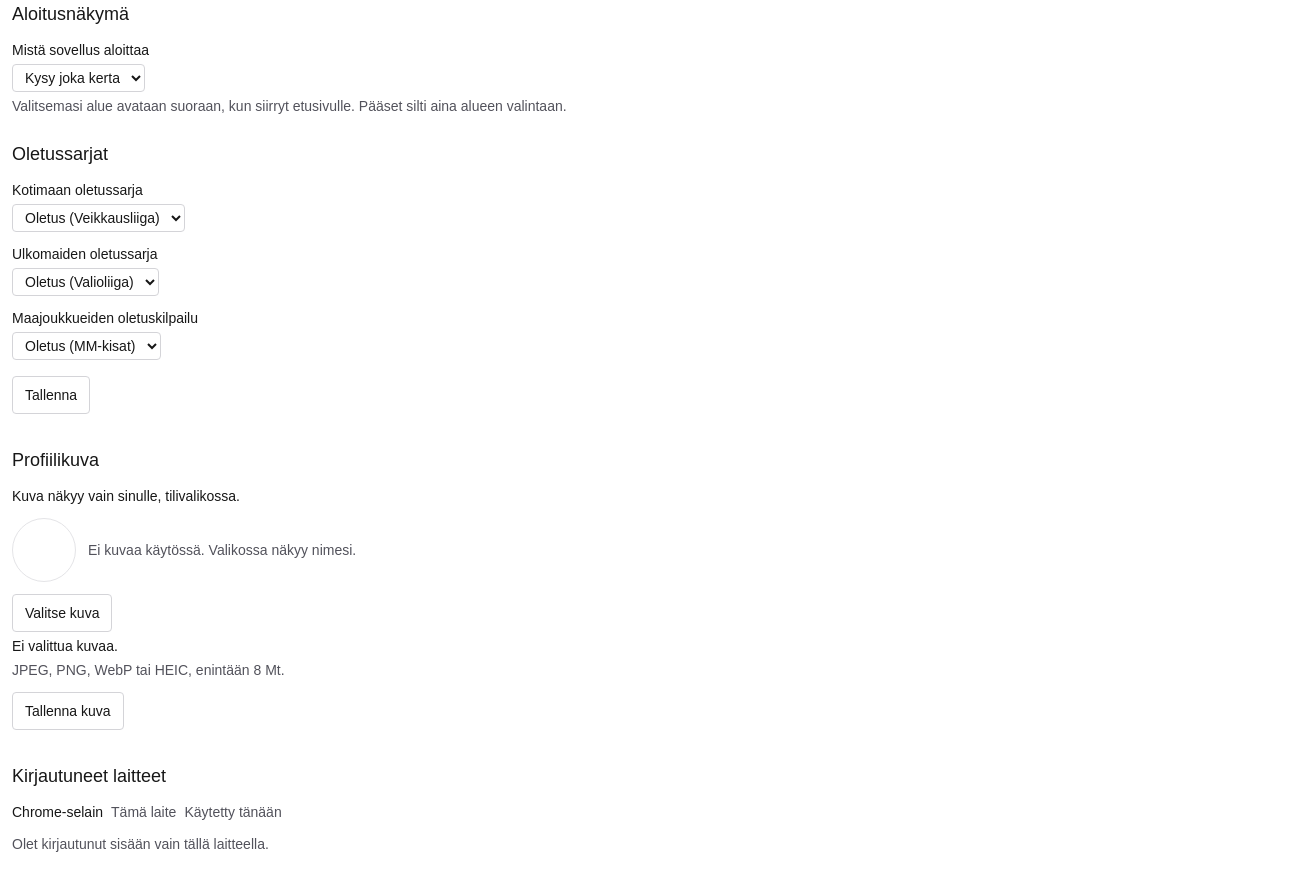
Test: preferences › says the save landed but needs a reload when the session refresh fails
Click the button "Tallenna" at (51, 395), box [12,376,90,414]
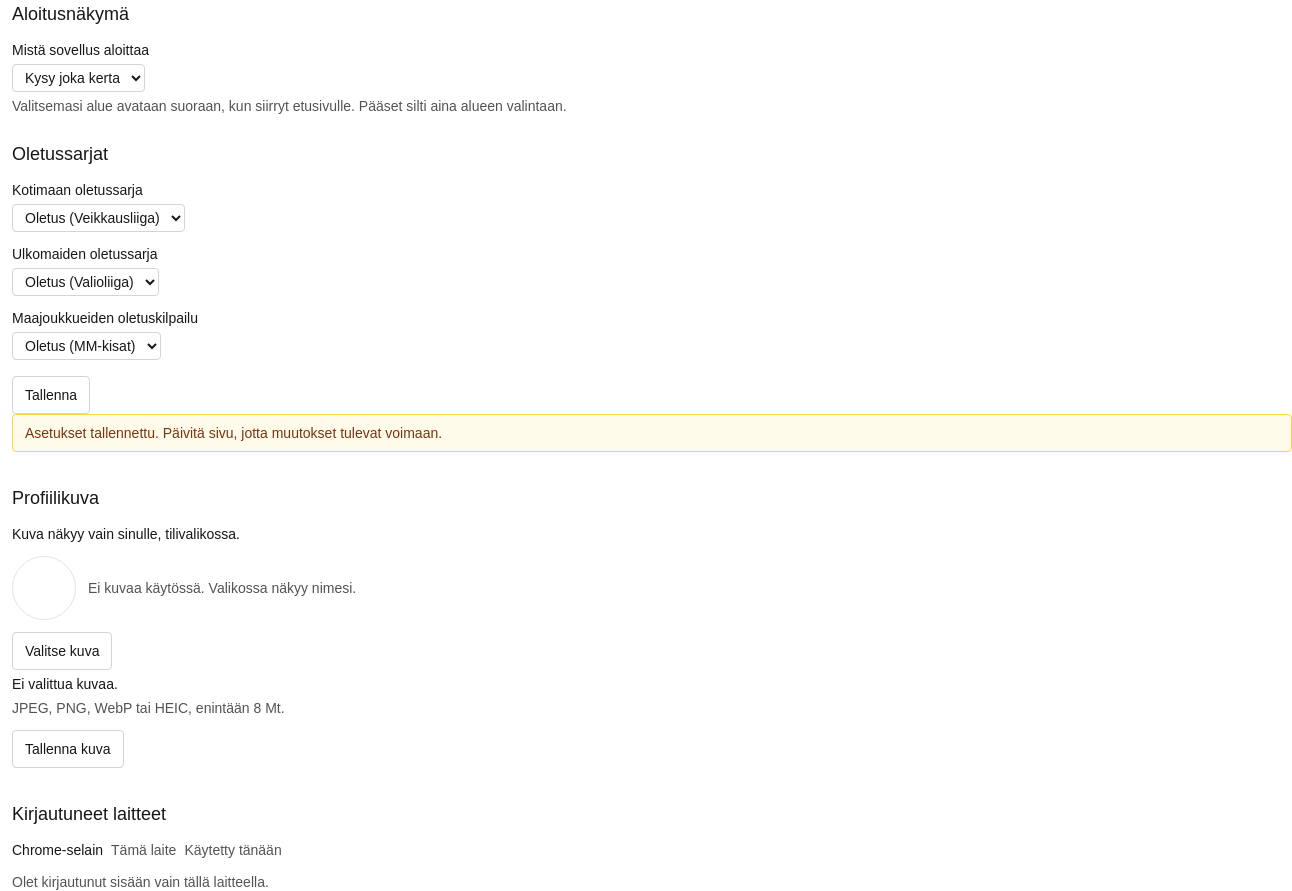
Check: the text "Asetukset tallennettu. Päivitä sivu, jotta muutokset tulevat voimaan." is shown, box [12,414,1291,452]
